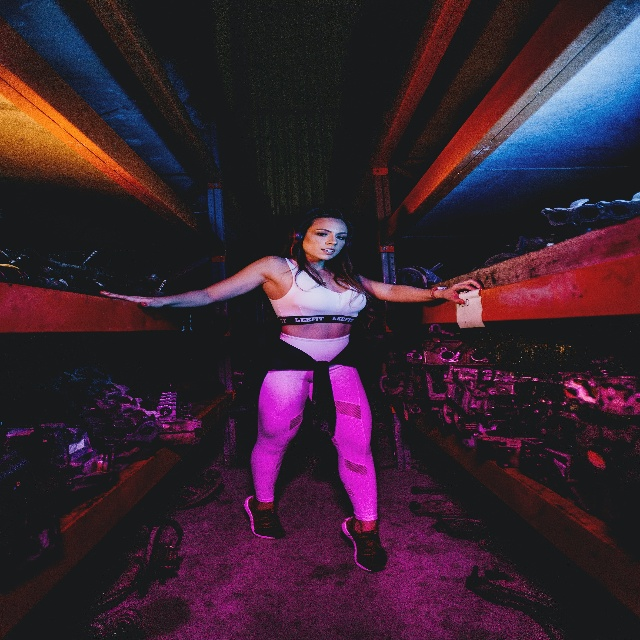Sin_guantes: (99, 288, 165, 308), (442, 278, 484, 306)
